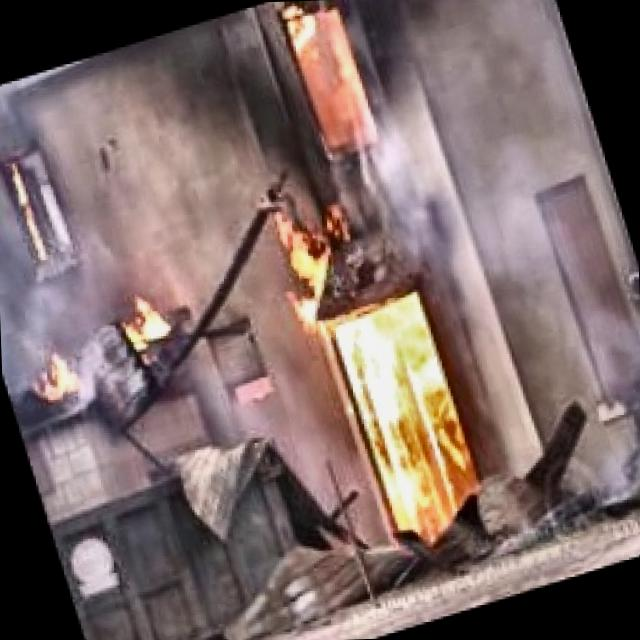fire: (316, 286, 484, 530), (278, 0, 376, 161)
